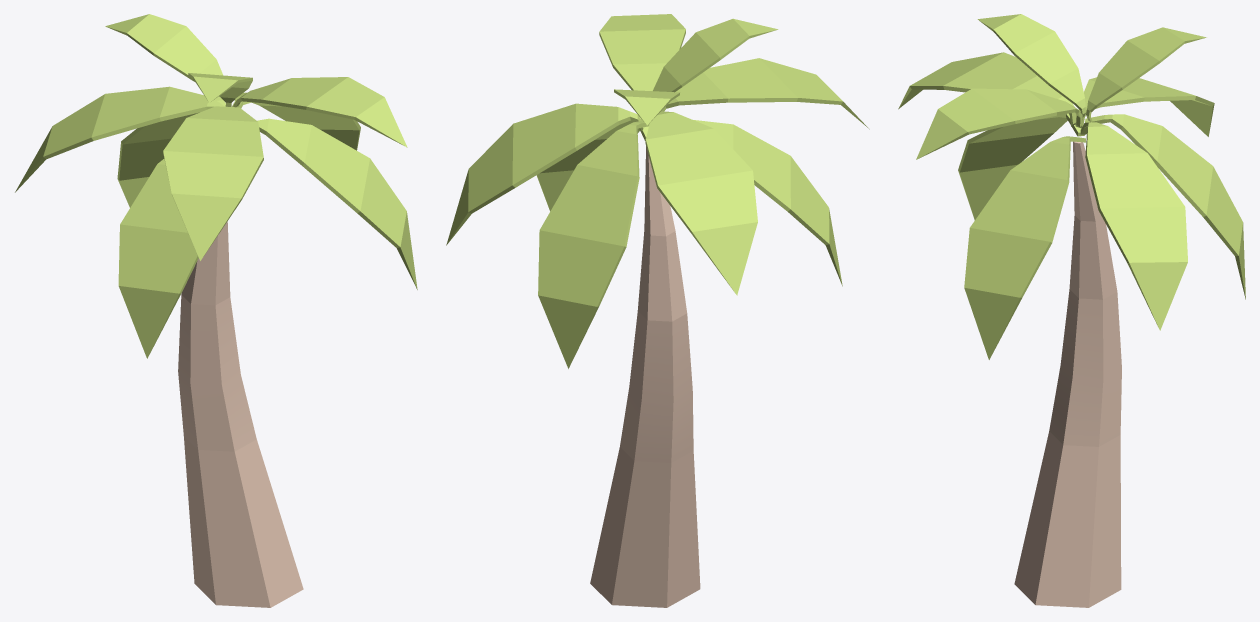
File: coconut tree.fbx
The picture shows the model from 3 angles, left to right: view 1: azimuth 30°, elevation 25°; view 2: azimuth 150°, elevation 25°; view 3: azimuth 270°, elevation 25°; orthographic projection. The views are drawn at different scales.
Parts seen in each view (by area): view 1: tree49; view 2: tree49; view 3: tree49.
Boxes of the visible parts, x1,y1,x2,y2 form: tree49: [15, 14, 417, 607]; tree49: [446, 14, 869, 607]; tree49: [898, 14, 1245, 607].
Bounding box in the file's own units: 13.89 × 23.21 × 13.68.
